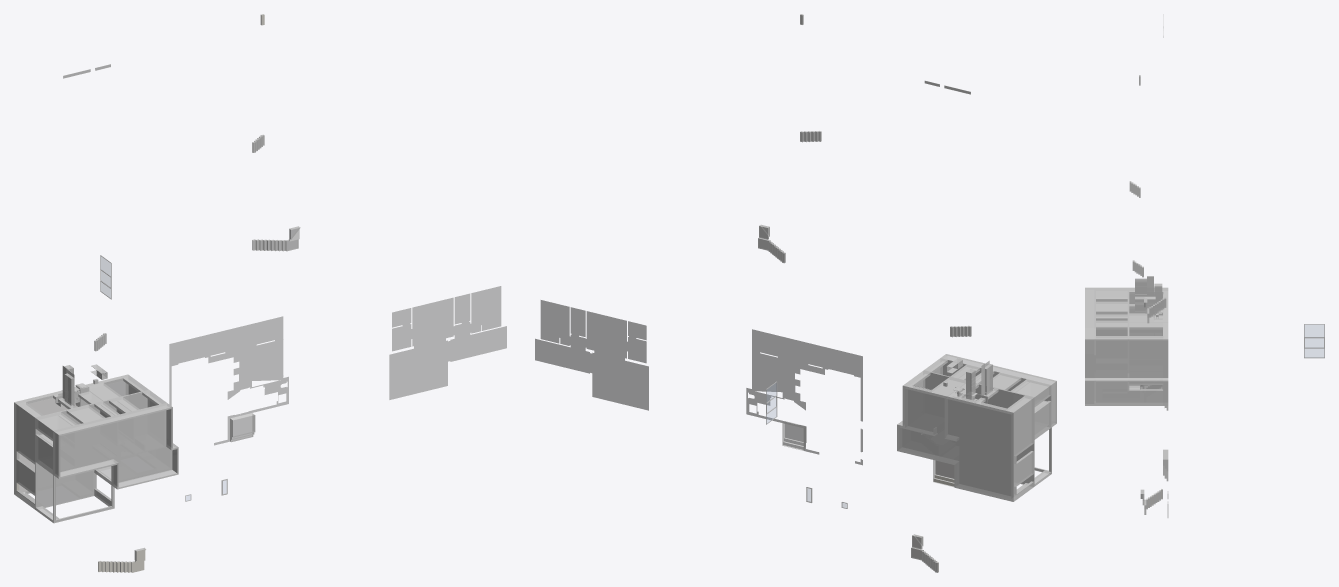
3 views of the same model, side by side, from view 1: azimuth 30°, elevation 25°; view 2: azimuth 150°, elevation 25°; view 3: azimuth 270°, elevation 25° (orthographic). The views are drawn at different scales.
Visible parts, largest first — view 1: Node299, Node1385, Node1377, Node1233, Node1236, Node40, Node1591, Node1608, Node14, Node1386, Node1372, Node1606 (+1 smaller); view 2: Node87, Node299, Node114, Node88, Node40, Node1591, Node1608, Node14, Node1236, Node1233, Node65, Node1606; view 3: Node44, Node45, Node1334, Node1333, Node14, Node60, Node1341, Node1338, Node1372, Node1396, Node1368, Node1318 (+3 smaller).
Part boxes in pixels (x1,y1,x2,y2): Node299: (389, 286, 506, 399); Node1385: (60, 410, 172, 482); Node1377: (53, 404, 170, 480); Node1233: (35, 392, 149, 507); Node1236: (35, 392, 145, 506); Node40: (14, 402, 34, 509); Node1591: (169, 326, 241, 364); Node1608: (241, 339, 280, 389); Node14: (14, 374, 148, 417); Node1386: (58, 407, 178, 489); Node1372: (53, 403, 172, 434); Node1606: (241, 316, 283, 346); Node87: (899, 388, 1011, 498); Node299: (535, 300, 648, 410); Node114: (948, 400, 1010, 495); Node88: (903, 390, 958, 460); Node40: (1013, 398, 1033, 501); Node1591: (792, 339, 862, 375); Node1608: (754, 352, 792, 399); Node14: (903, 371, 1033, 412); Node1236: (925, 372, 1033, 484); Node1233: (926, 372, 1033, 483); Node65: (1014, 401, 1030, 454); Node1606: (752, 329, 792, 358); Node44: (1129, 339, 1168, 377); Node45: (1130, 341, 1167, 377); Node1334: (1096, 339, 1127, 376); Node1333: (1096, 341, 1126, 377); Node14: (1129, 287, 1168, 339); Node60: (1129, 380, 1168, 405); Node1341: (1096, 380, 1127, 405); Node1338: (1096, 382, 1126, 401); Node1372: (1085, 287, 1095, 339); Node1396: (1085, 290, 1093, 339); Node1368: (1085, 339, 1095, 377); Node1318: (1096, 287, 1127, 298).
Size of the model in its own units: 2007 by 2056 by 909.
